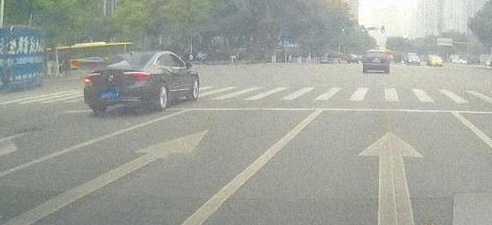L_light: (84, 73, 101, 85)
R_light: (123, 72, 150, 83)
T_light: (124, 56, 136, 58)
day-no: (84, 52, 159, 113)
